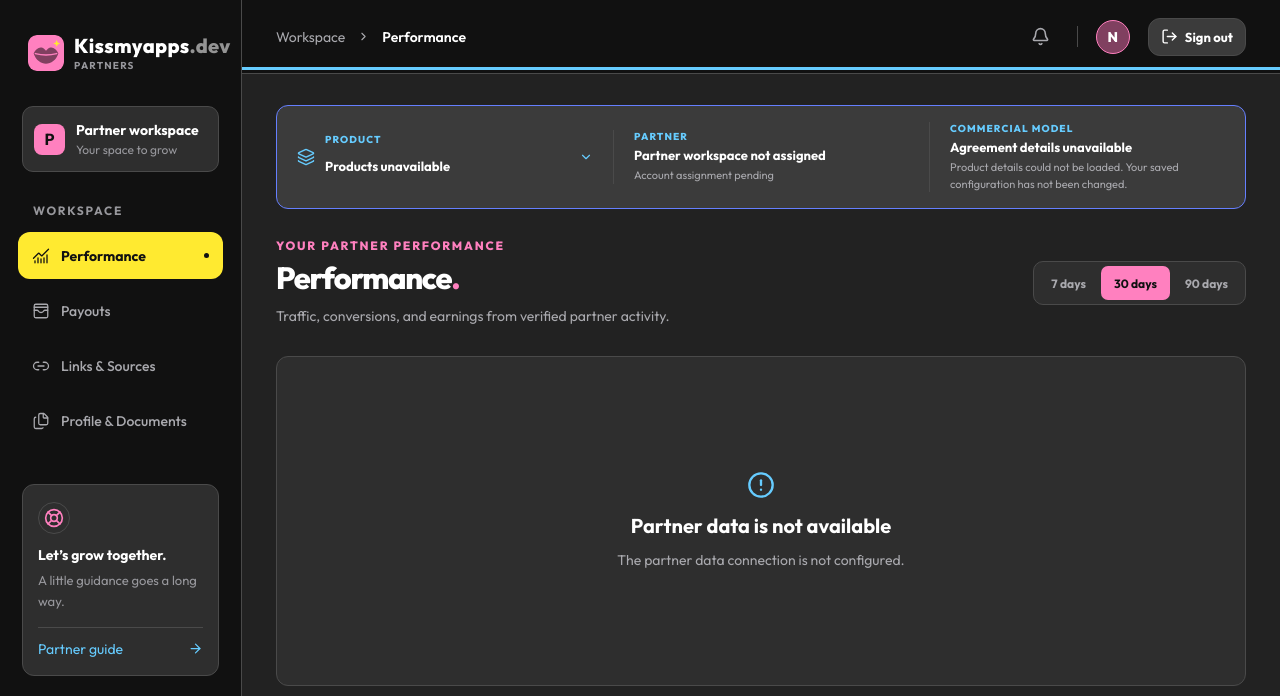
Scenario: live partner session shell › sanitizes unexpected sign-out failures and keeps the dashboard open
The image size is (1280, 696).
Click the button "Sign out": [1197, 36] box [1148,18,1246,56]
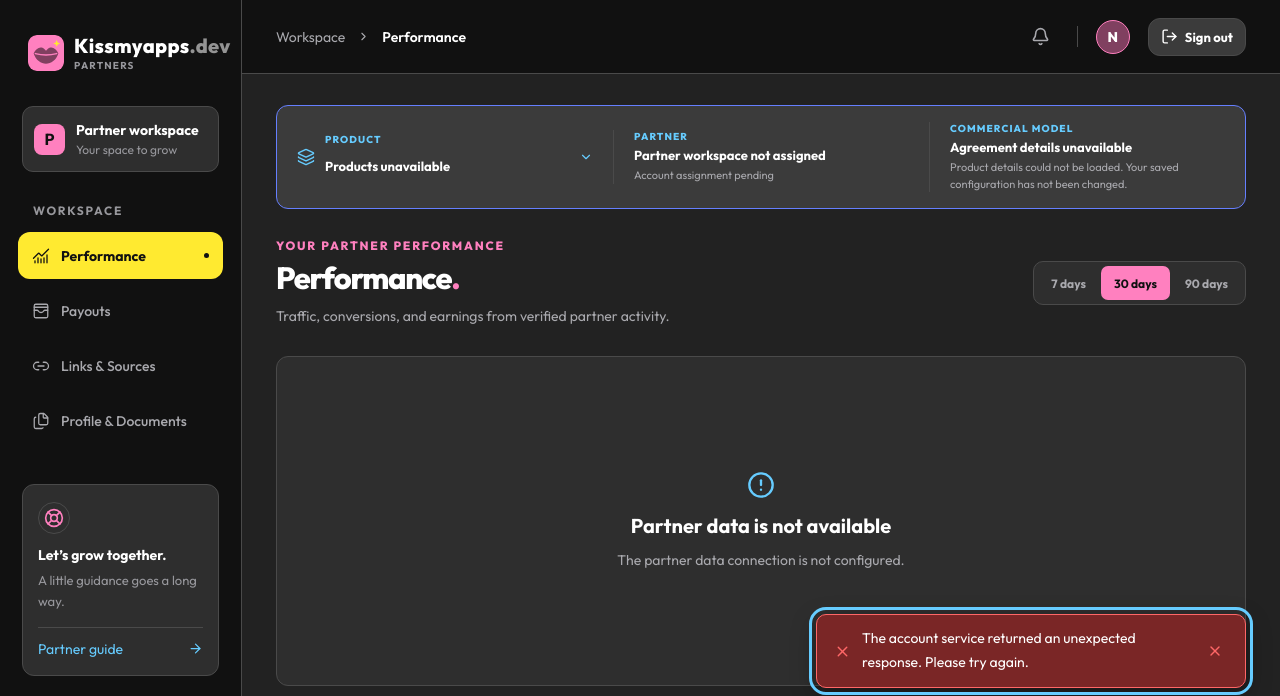
Expected: the heading "Performance." is shown, [276,258,459,297]
Result: the text "The account service returned an unexpected response. Please try again." is shown at [816,614,1246,688]
